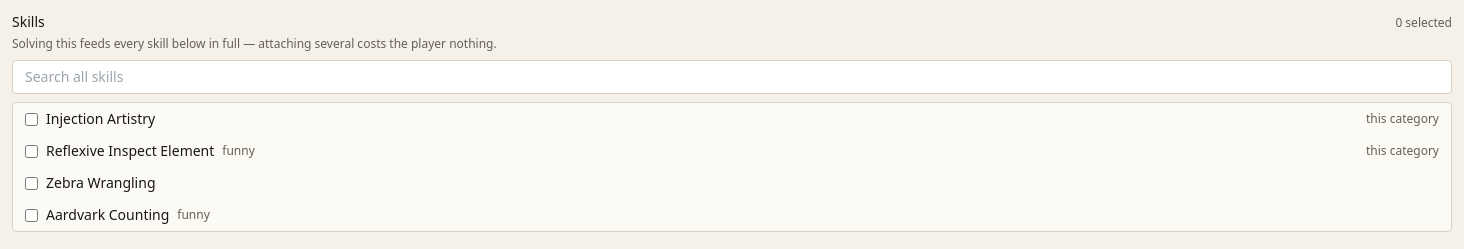
Scenario: SkillPicker › searches across every skill
The image size is (1464, 249).
Type "aardvark" into the field named "Search skills" at (732, 77), box left=12, top=60, right=1452, bottom=94
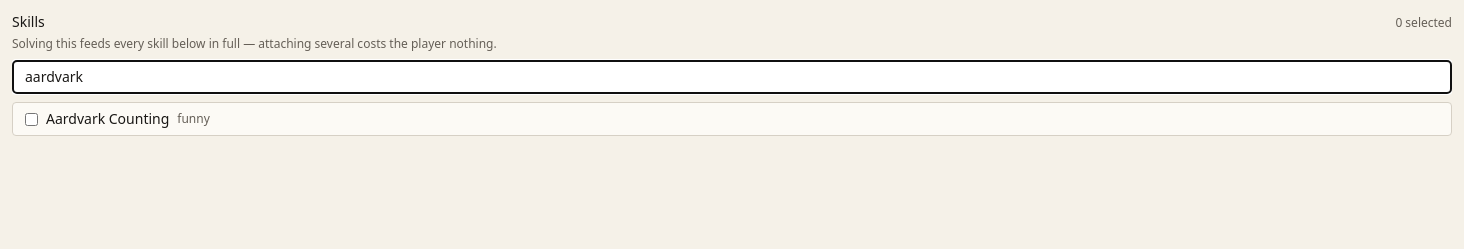
Expected: the text "Aardvark Counting" is shown, left=46, top=109, right=169, bottom=129
Expected: the text "Injection Artistry" is gone
